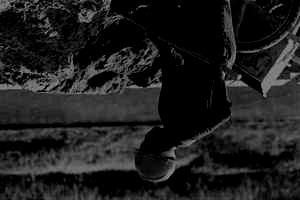helmet: (132, 127, 181, 184)
